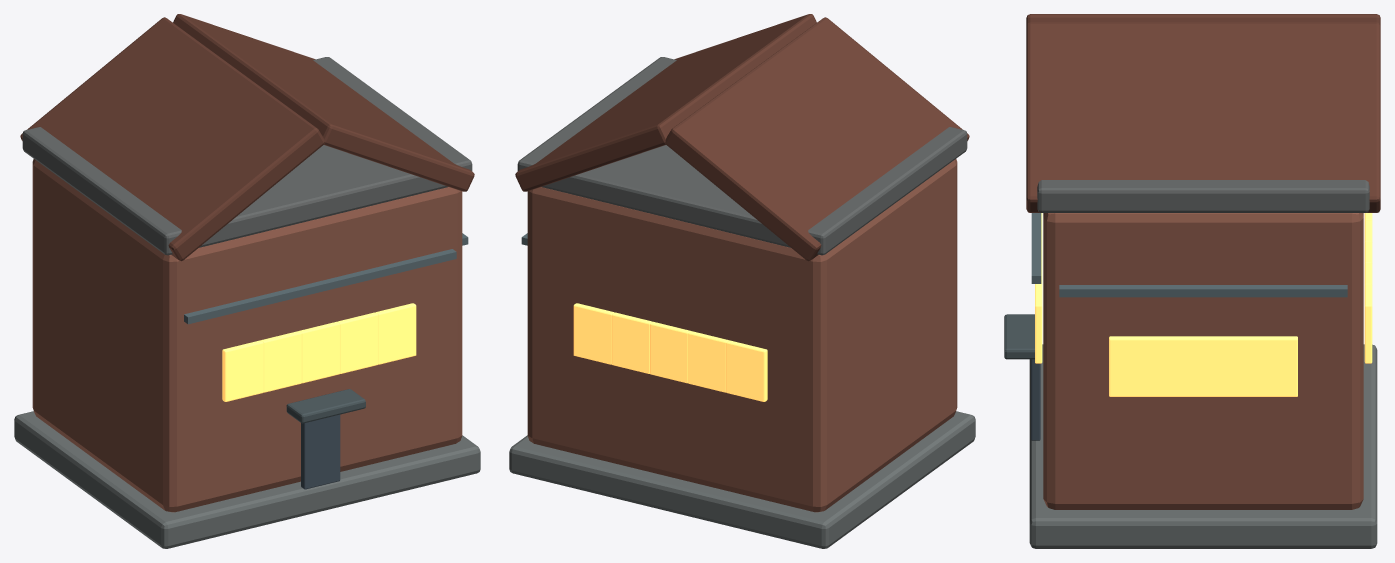
The model's file is residential_duplex.glb.
3 renders of one model, left to right at view 1: azimuth 30°, elevation 25°; view 2: azimuth 150°, elevation 25°; view 3: azimuth 270°, elevation 25°, orthographic. The views are drawn at different scales.
Visible parts, largest first — view 1: main_massing, sloped_roof, roof_slab, foundation, sloped_roof.001, facade_band_front, entry_door, front_window, front_window.004, front_window.002, front_window.001, front_window.003 (+1 smaller); view 2: main_massing, sloped_roof, roof_slab, foundation, sloped_roof.001, rear_window, rear_window.004, rear_window.002, rear_window.001, rear_window.003; view 3: main_massing, sloped_roof.001, foundation, roof_slab, facade_band_side, sloped_roof, side_window, side_window.003, side_window.001, side_window.002, entry_canopy, entry_door (+3 smaller).
Part boxes in pixels (bbox=[...]): main_massing: bbox=[32, 159, 462, 512]; sloped_roof: bbox=[20, 17, 324, 261]; roof_slab: bbox=[22, 57, 472, 255]; foundation: bbox=[14, 411, 480, 548]; sloped_roof.001: bbox=[173, 14, 474, 191]; facade_band_front: bbox=[184, 249, 456, 324]; entry_door: bbox=[301, 414, 340, 489]; front_window: bbox=[222, 340, 263, 401]; front_window.004: bbox=[375, 303, 416, 364]; front_window.002: bbox=[299, 321, 339, 383]; front_window.001: bbox=[261, 331, 301, 392]; front_window.003: bbox=[337, 312, 378, 373]; main_massing: bbox=[527, 159, 957, 512]; sloped_roof: bbox=[665, 17, 969, 261]; roof_slab: bbox=[517, 57, 967, 255]; foundation: bbox=[509, 411, 975, 548]; sloped_roof.001: bbox=[515, 14, 816, 191]; rear_window: bbox=[726, 340, 767, 401]; rear_window.004: bbox=[573, 303, 614, 364]; rear_window.002: bbox=[650, 321, 690, 383]; rear_window.001: bbox=[688, 331, 728, 392]; rear_window.003: bbox=[611, 312, 652, 373]; main_massing: bbox=[1043, 213, 1363, 509]; sloped_roof.001: bbox=[1026, 22, 1380, 212]; foundation: bbox=[1029, 344, 1377, 548]; roof_slab: bbox=[1037, 180, 1369, 212]; facade_band_side: bbox=[1059, 285, 1347, 297]; sloped_roof: bbox=[1026, 14, 1380, 25]; side_window: bbox=[1249, 336, 1297, 396]; side_window.003: bbox=[1109, 336, 1157, 396]; side_window.001: bbox=[1203, 336, 1250, 396]; side_window.002: bbox=[1157, 336, 1203, 396]; entry_canopy: bbox=[1004, 314, 1034, 359]; entry_door: bbox=[1031, 359, 1040, 440].
Size of the model in its own units: 1.24 by 1.44 by 1.1.
